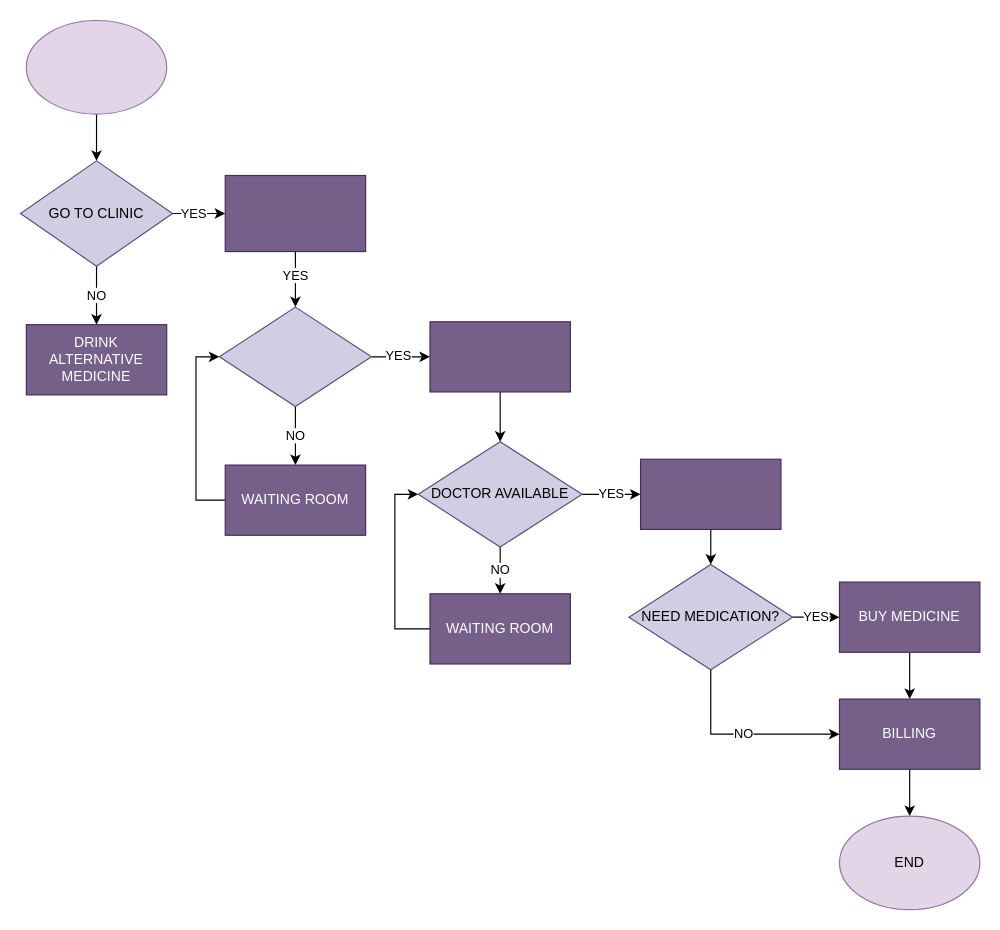
Image size: 1000x930. Some labels were removed from this diagram. Here are the shapes that lost their labels. From the top down, the box of each, then its label:
(25, 19, 167, 114): START
(224, 174, 366, 252): FILL-OUT CLINIC FORM
(218, 306, 371, 407): NURSE AVAILABLE
(429, 321, 570, 392): TAKE APE
(639, 458, 781, 529): DOCTOR CHECK-UP
